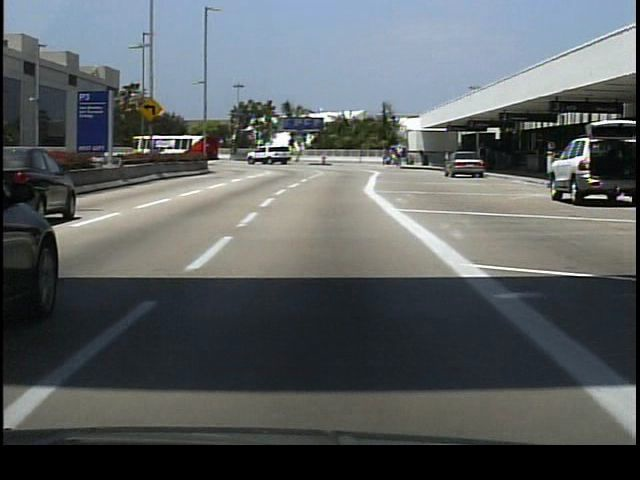person: (477, 149, 492, 180), (394, 146, 404, 174)
